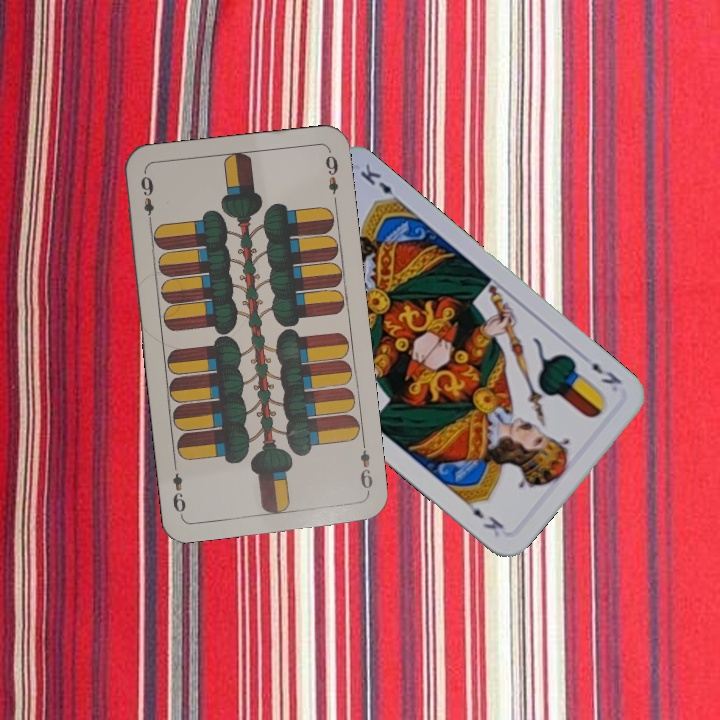E9: (136, 169, 156, 228), (356, 437, 375, 496)
EK: (587, 358, 625, 387)
